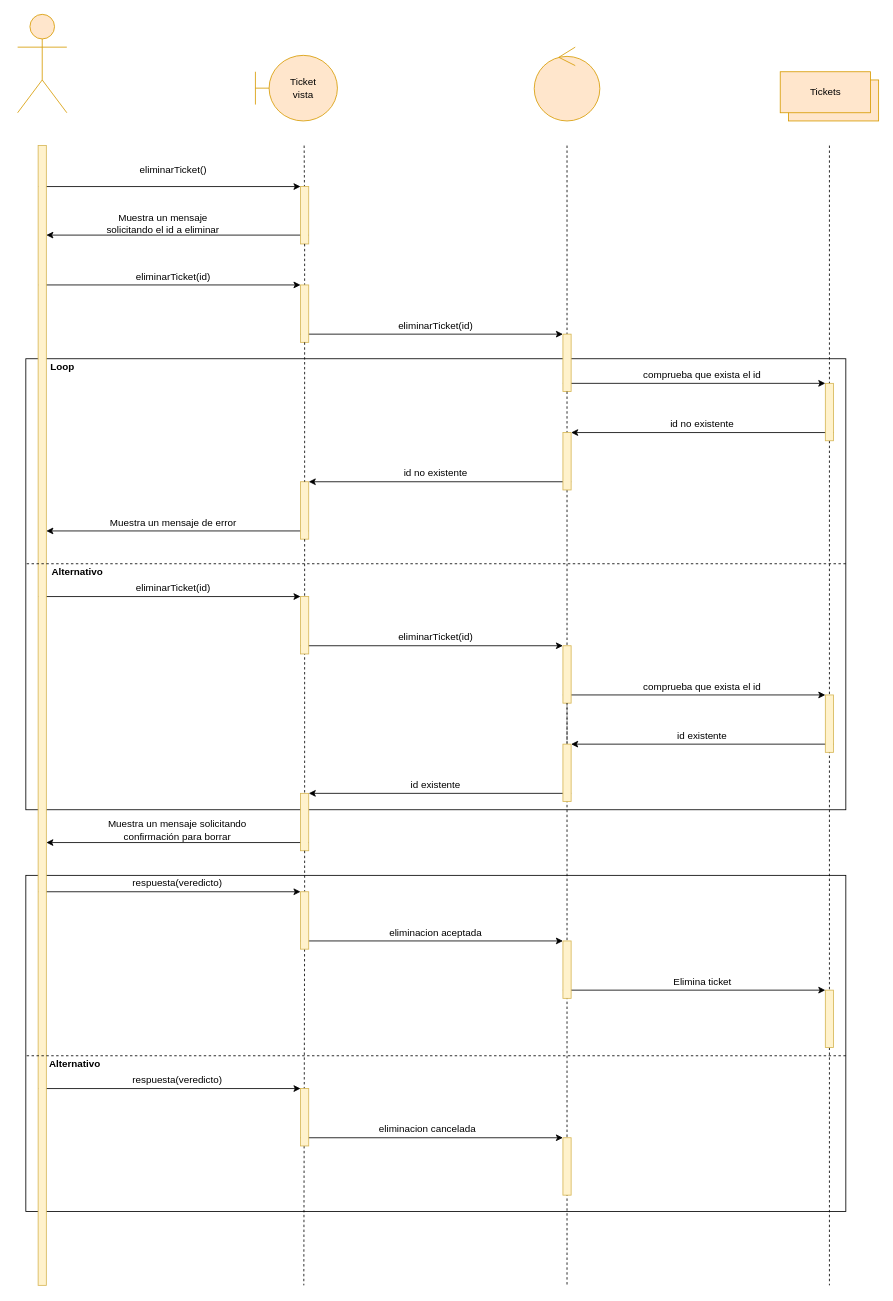
This 893x1301 diagram has some shape labels left out. Here are the shapes that lost their labels. From the top down, the centre of each, then its label:
At pixel 42 63: "Dependiente".
At pixel 566 83: "Ticket controlador".
